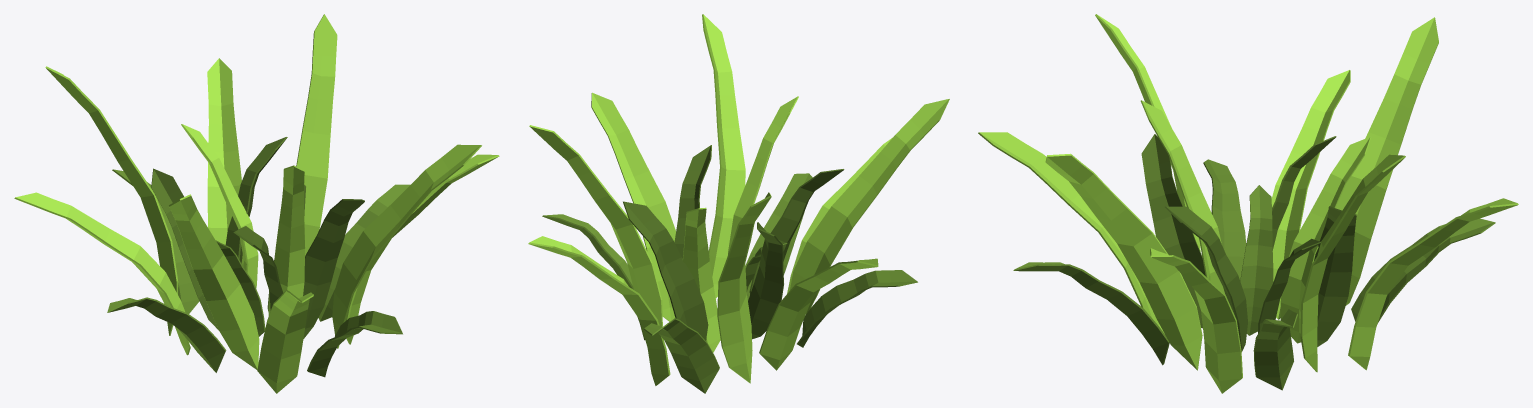
File: BigPatch.fbx
The picture shows the model from 3 angles, left to right: view 1: azimuth 30°, elevation 25°; view 2: azimuth 150°, elevation 25°; view 3: azimuth 270°, elevation 25°; orthographic projection. The views are drawn at different scales.
Visible parts, largest first — view 1: big grass patch.001; view 2: big grass patch.001; view 3: big grass patch.001.
Boxes of the visible parts, box(x1,y1,x2,y2) form: big grass patch.001: box(14, 14, 499, 393); big grass patch.001: box(528, 14, 949, 393); big grass patch.001: box(978, 14, 1518, 393).
Bounding box in the file's own units: 273 × 243 × 153.
